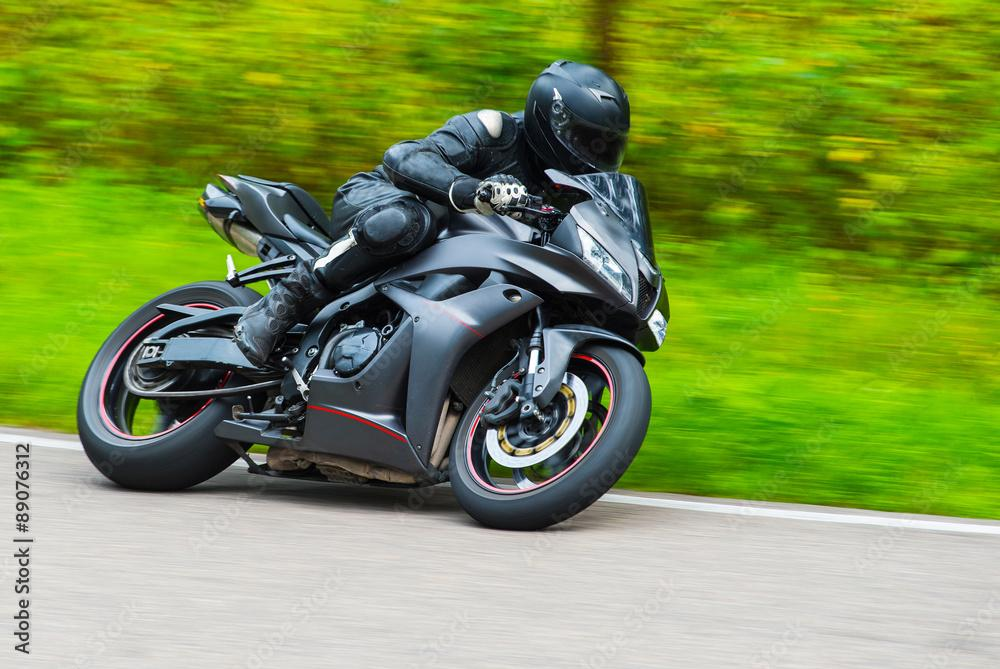motorcycle: (70, 165, 675, 540)
